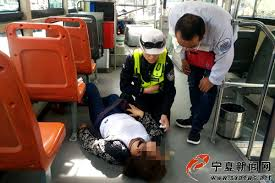fall: (70, 80, 175, 180)
